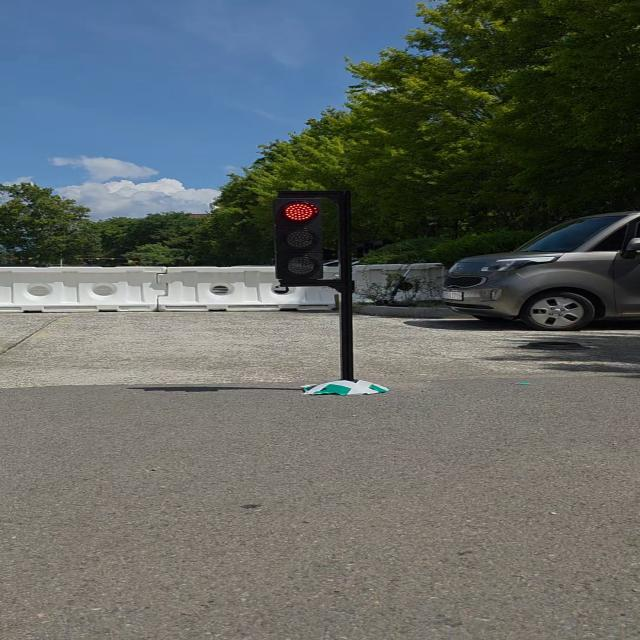red: (268, 196, 333, 282)
